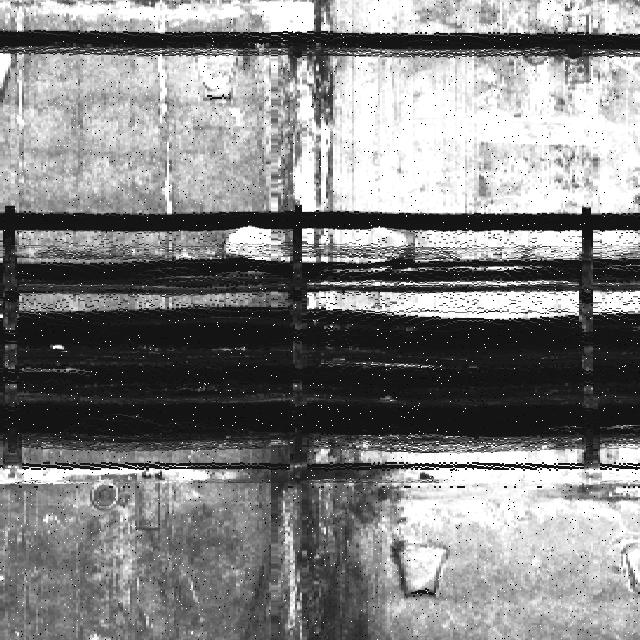leakage: (231, 443, 401, 640)
